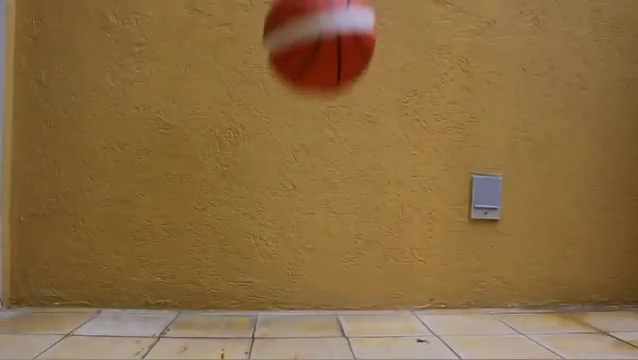ball: (263, 1, 378, 99)
